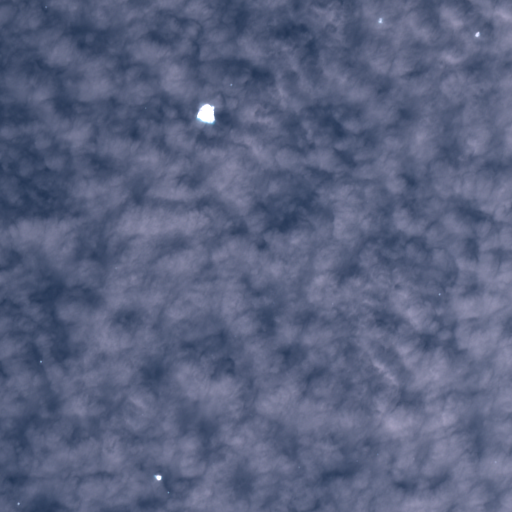Iceberg: (197, 103, 215, 122), (154, 474, 162, 480), (475, 31, 480, 37), (378, 18, 383, 22), (17, 502, 19, 505), (230, 83, 232, 85), (438, 293, 440, 295), (167, 491, 169, 493), (40, 360, 41, 362), (45, 6, 46, 7)
